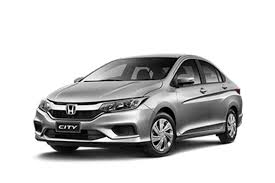Honda: (36, 52, 242, 157)
